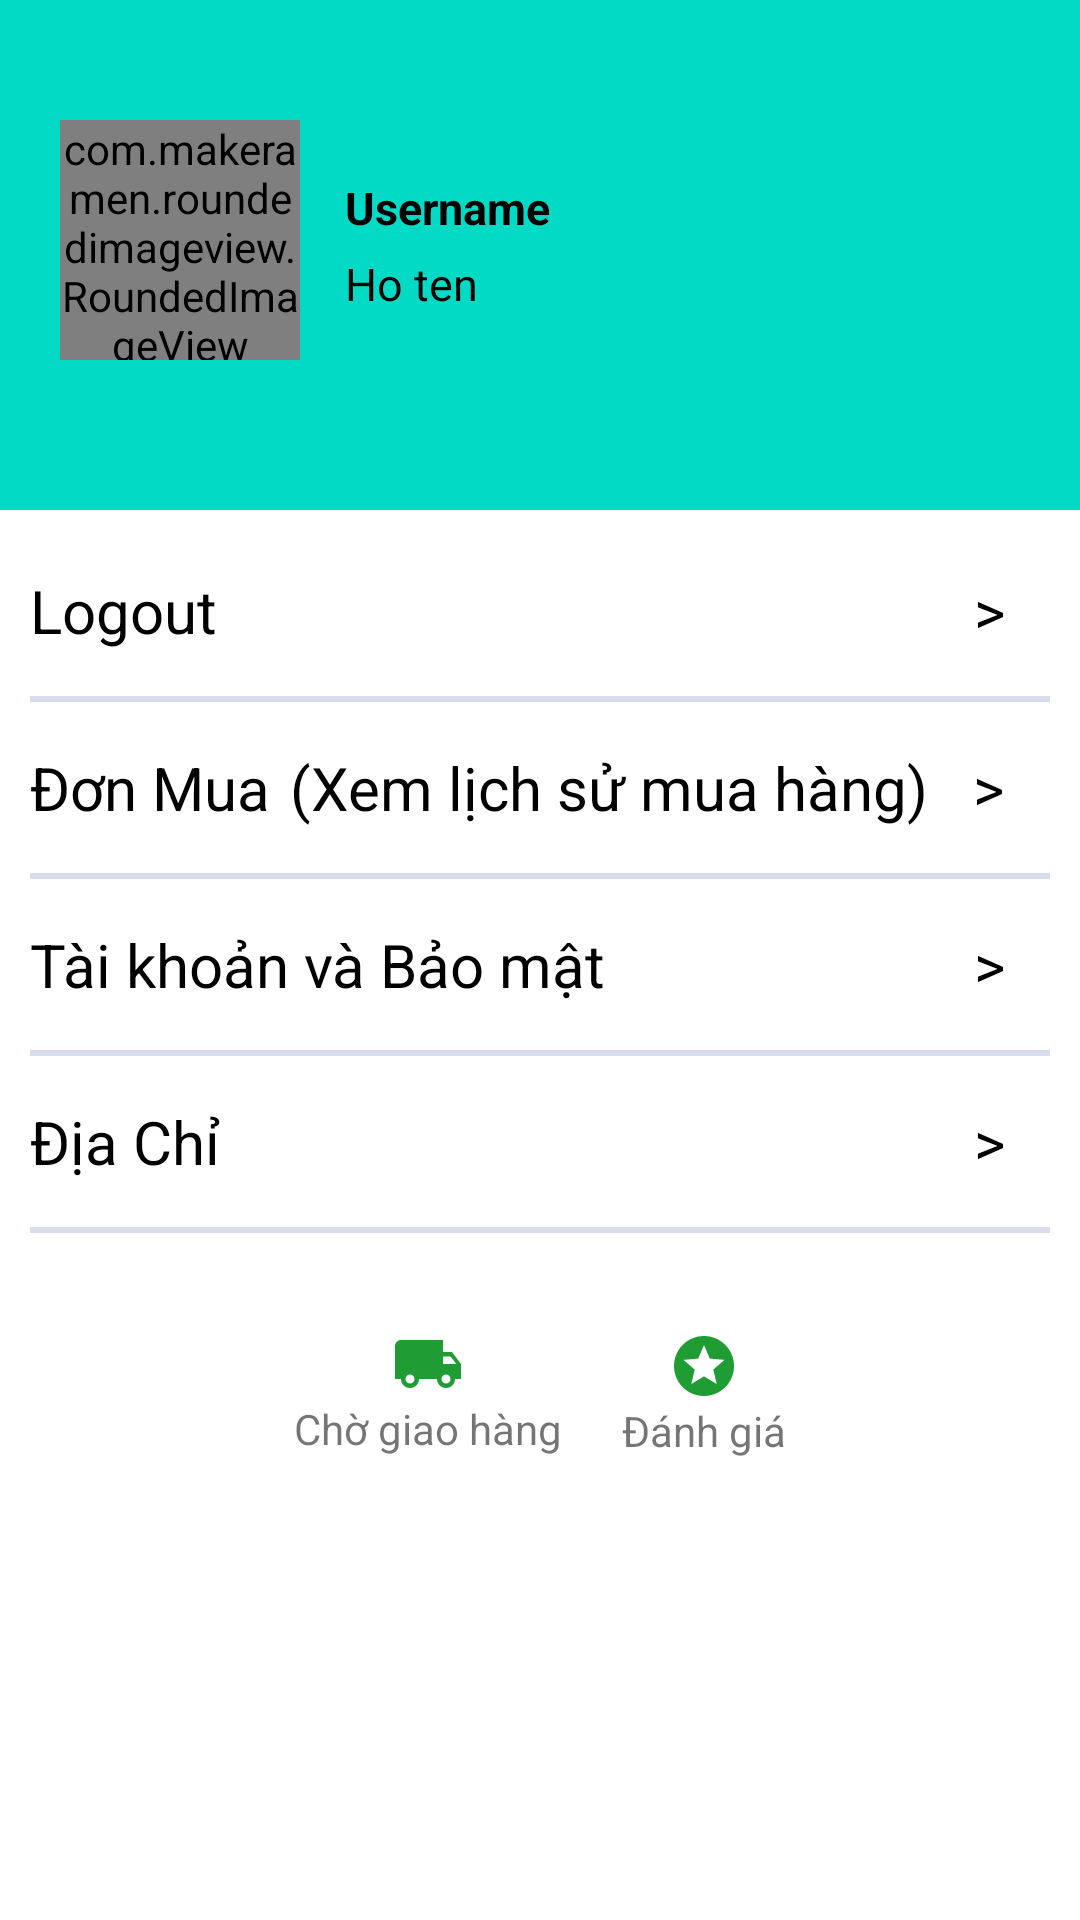

Screen size 1080px×1920px. Icon name, then its box in pixels as {"left": x1, "top": y1, "right": x2, "bottom": y2}:
local shipping: {"left": 395, "top": 1340, "right": 461, "bottom": 1388}
stars: {"left": 674, "top": 1336, "right": 734, "bottom": 1396}
